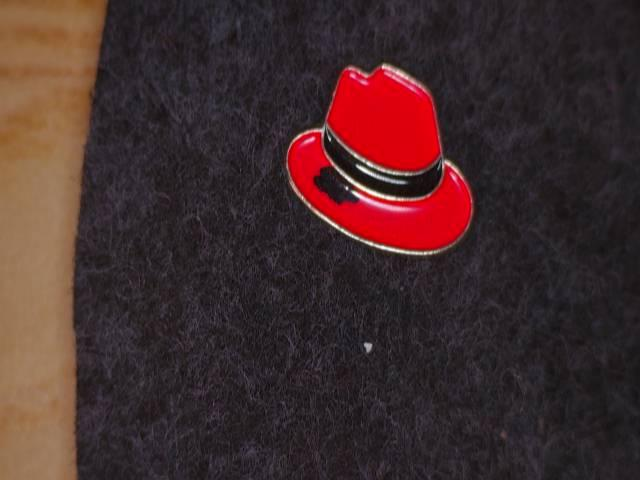Red-Hat: (247, 44, 501, 278)
Scratch: (303, 151, 381, 215)
